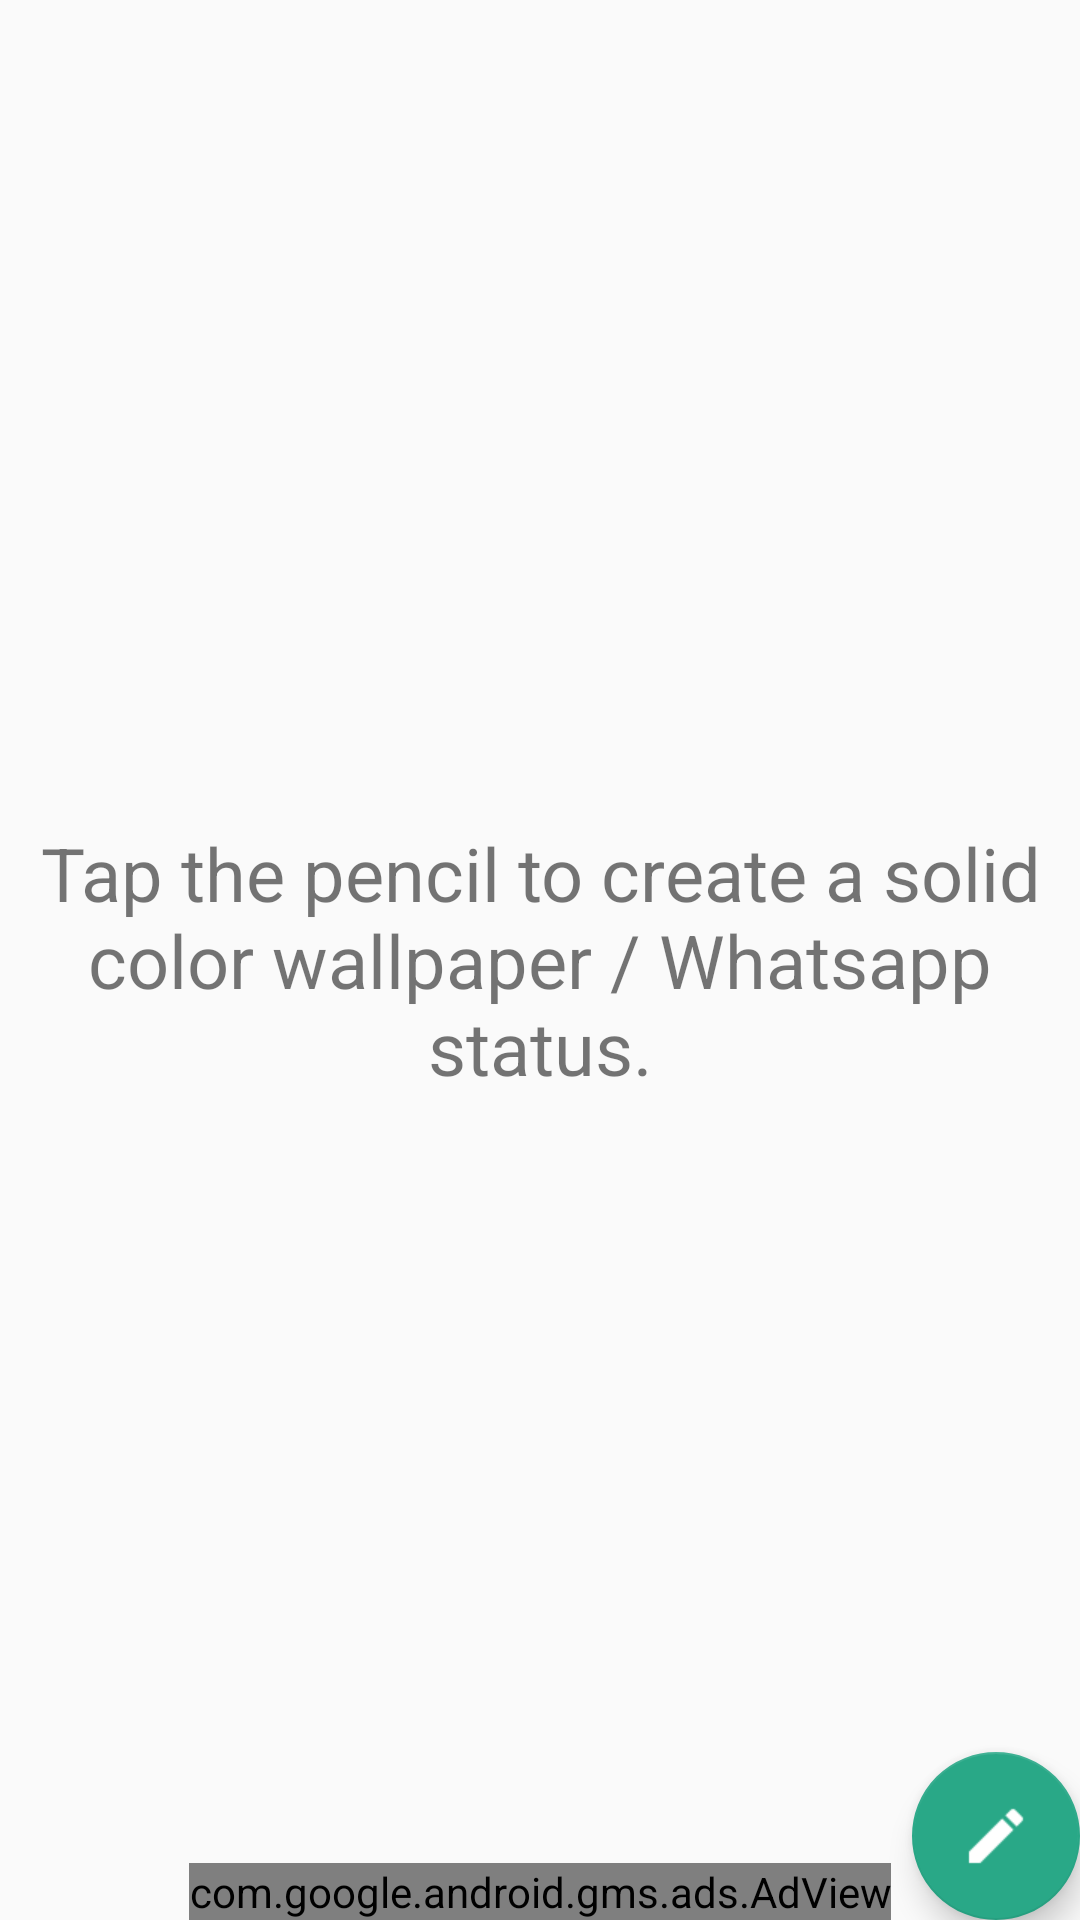

Named icons in this screenshot (1080w x 1920h) and their centers, point (x, y):
pencil: point (996, 1836)
